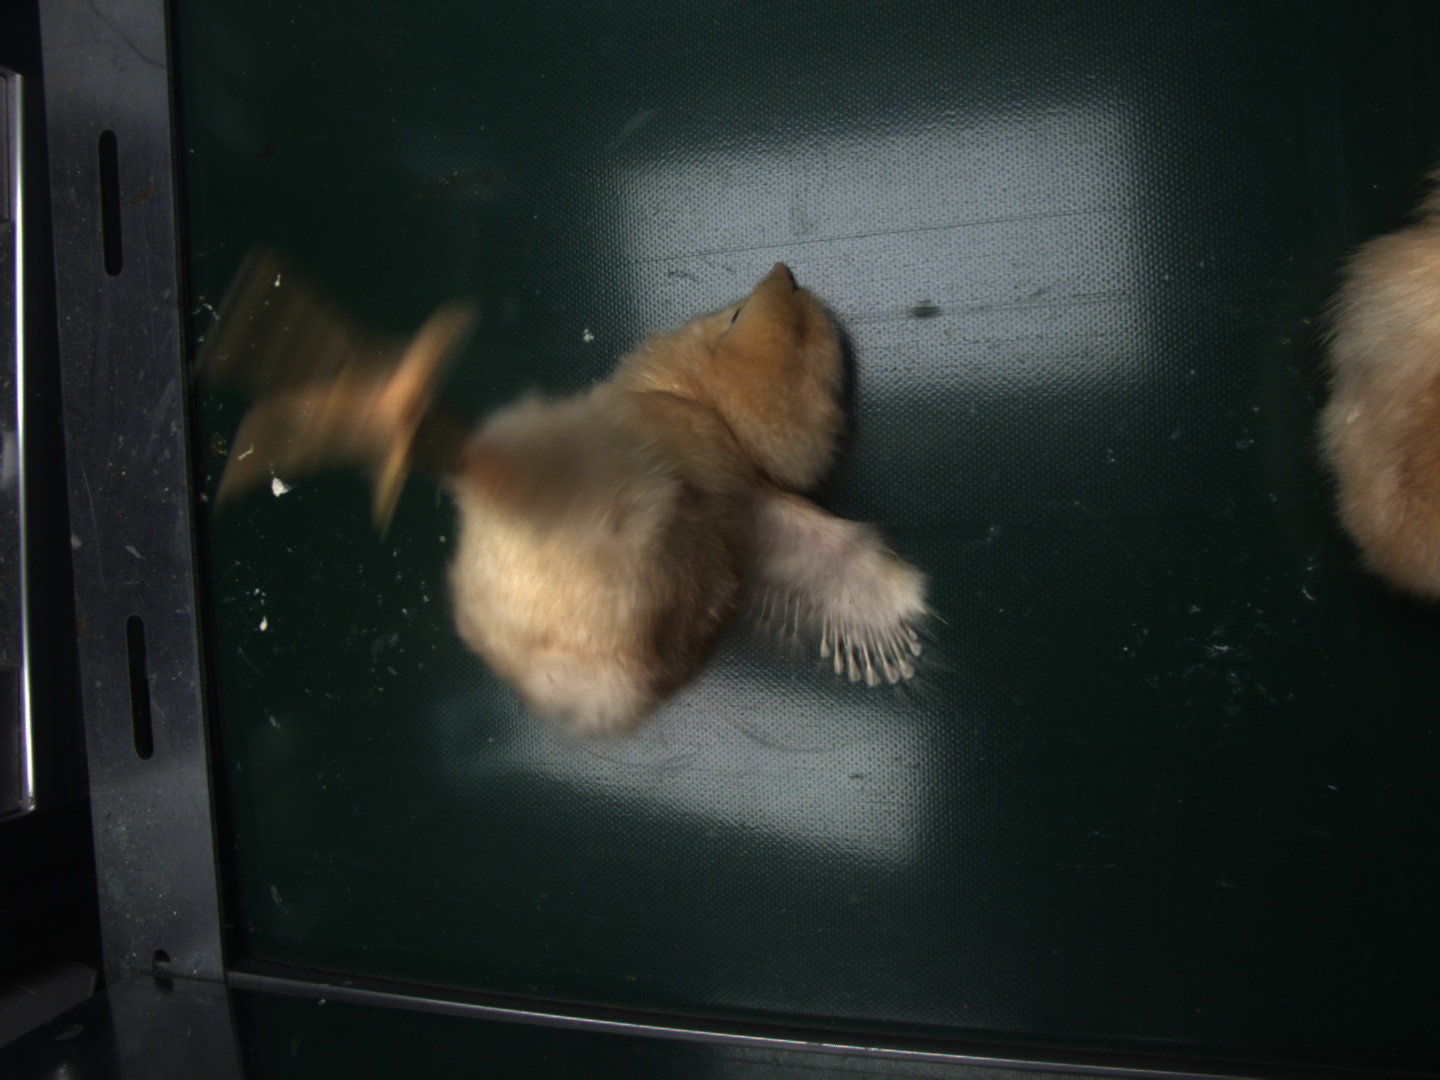female: (824, 617, 927, 686)
